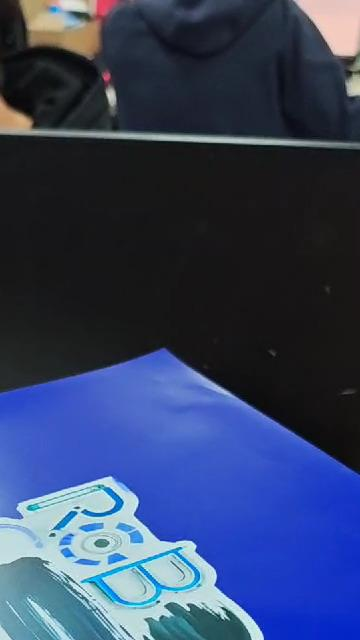B_R1: (0, 465, 317, 640)
